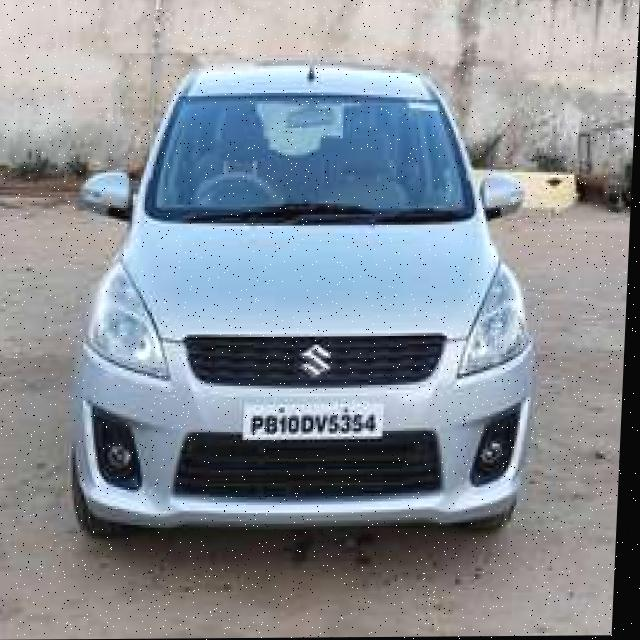plate: (242, 393, 390, 444)
